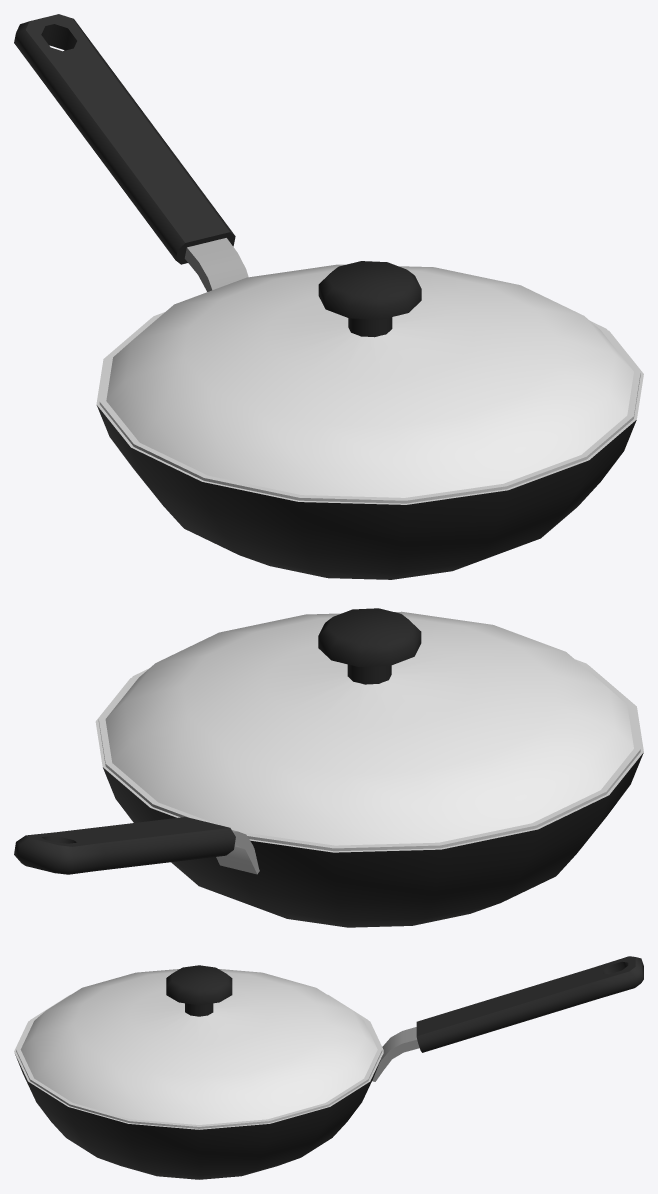
Rendered from WokPan_01.fbx.
3 views of the same model, one above another, from view 1: azimuth 30°, elevation 25°; view 2: azimuth 150°, elevation 25°; view 3: azimuth 270°, elevation 25° (orthographic). The views are drawn at different scales.
Visible parts, largest first — view 1: WokPan_01_Lid, WokPan_01; view 2: WokPan_01_Lid, WokPan_01; view 3: WokPan_01_Lid, WokPan_01.
Boxes of the visible parts, x1,y1,x2,y2 form: WokPan_01_Lid: (99, 261, 640, 503); WokPan_01: (14, 14, 643, 579); WokPan_01_Lid: (98, 608, 640, 851); WokPan_01: (14, 666, 643, 927); WokPan_01_Lid: (16, 965, 382, 1128); WokPan_01: (14, 956, 643, 1179).
Bounding box in the file's own units: 0.3797 × 0.2044 × 0.6458.
